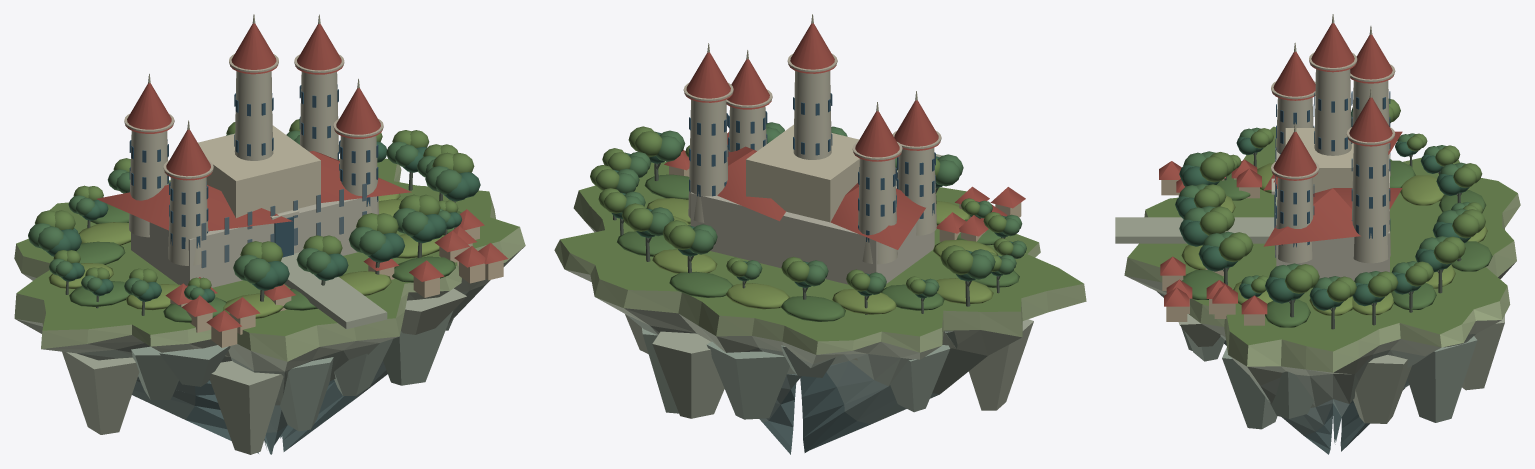
Rendered from academy-island.glb.
3 renders of one model, left to right at view 1: azimuth 30°, elevation 25°; view 2: azimuth 150°, elevation 25°; view 3: azimuth 270°, elevation 25°, orthographic. The views are drawn at different scales.
Visible parts, largest first — view 1: academy-island; view 2: academy-island; view 3: academy-island.
Boxes of the visible parts, <box> form: academy-island: <box>14,14,525,454</box>; academy-island: <box>554,14,1086,454</box>; academy-island: <box>1115,14,1520,454</box>.
Size of the model in its own units: 28.54 by 25.02 by 21.41.
